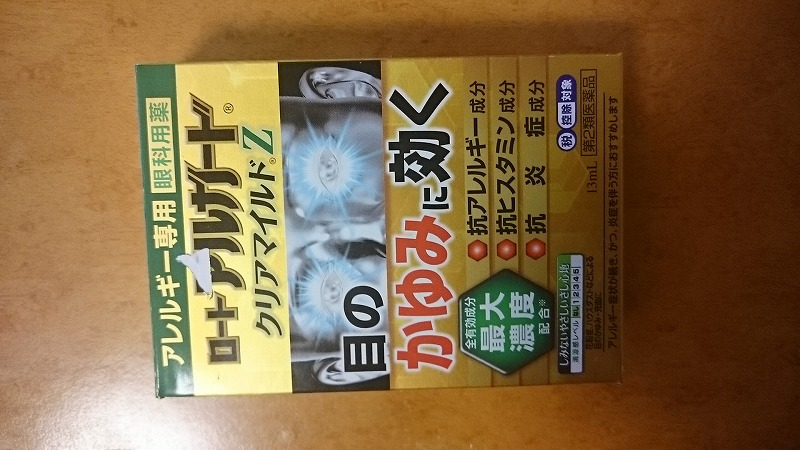C: (131, 44, 632, 398)
